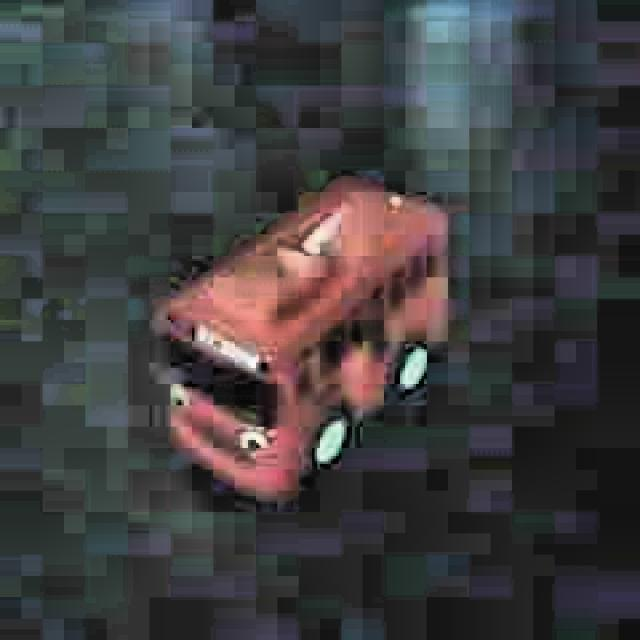bus: (150, 165, 463, 512)
